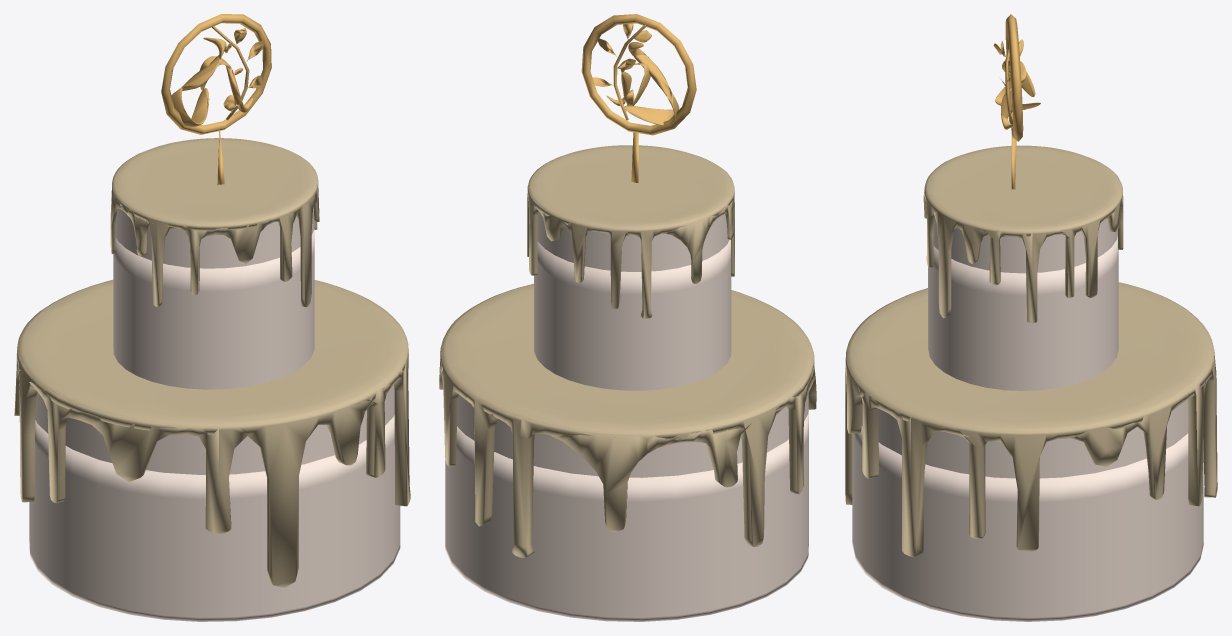
The model's file is 2-tier-white-ganache-ring.glb.
3 views of the same model, side by side, from view 1: azimuth 30°, elevation 25°; view 2: azimuth 150°, elevation 25°; view 3: azimuth 270°, elevation 25° (orthographic). The views are drawn at different scales.
Visible parts, largest first — view 1: Cylinder.023, tHE ICING.004, Cylinder.013, tHE ICING.003, Cylinder.011; view 2: Cylinder.023, tHE ICING.004, Cylinder.013, tHE ICING.003, Cylinder.011; view 3: Cylinder.023, tHE ICING.004, Cylinder.013, tHE ICING.003, Cylinder.011.
Part boxes in pixels (x1,y1,x2,y2): Cylinder.023: [29, 385, 400, 621]; tHE ICING.004: [14, 280, 410, 587]; Cylinder.013: [113, 207, 314, 389]; tHE ICING.003: [110, 138, 319, 307]; Cylinder.011: [161, 14, 271, 184]; Cylinder.023: [445, 393, 808, 621]; tHE ICING.004: [439, 284, 816, 557]; Cylinder.013: [534, 211, 731, 390]; tHE ICING.003: [527, 145, 734, 318]; Cylinder.011: [581, 14, 696, 182]; Cylinder.023: [852, 400, 1203, 621]; tHE ICING.004: [845, 282, 1217, 557]; Cylinder.013: [928, 216, 1118, 390]; tHE ICING.003: [923, 145, 1123, 323]; Cylinder.011: [993, 14, 1040, 189].
Bounding box in the file's own units: 3.53 × 5.36 × 3.46.
